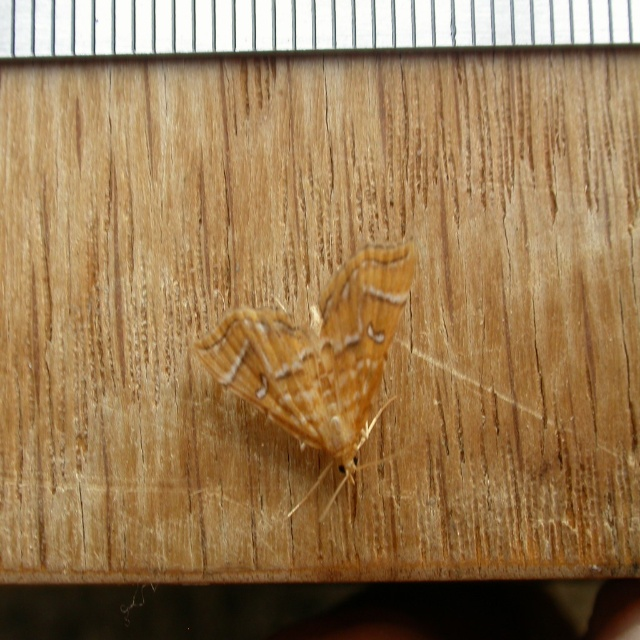Moths and butterflies: (186, 239, 418, 524)
